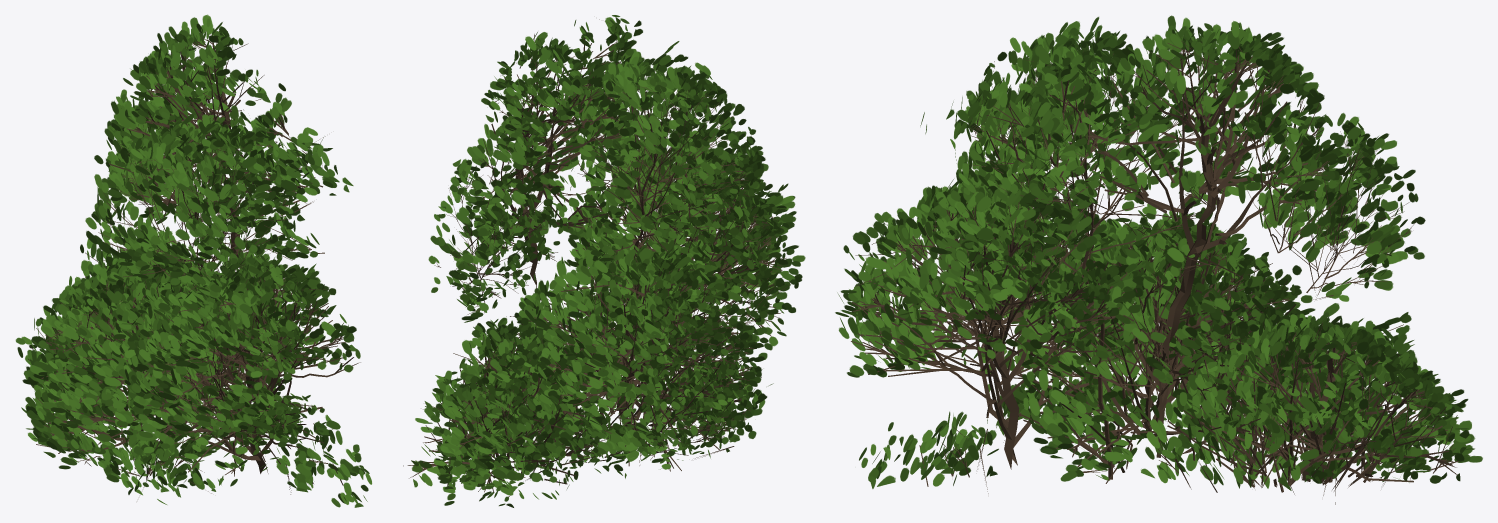
3 views of the same model, side by side, from view 1: azimuth 30°, elevation 25°; view 2: azimuth 150°, elevation 25°; view 3: azimuth 270°, elevation 25° (orthographic). The views are drawn at different scales.
Parts seen in each view (by area): view 1: oak 01.001_trunk_Mat.001_0.420; view 2: oak 01.001_trunk_Mat.001_0.420; view 3: oak 01.001_trunk_Mat.001_0.420.
Part boxes in pixels (x1,y1,x2,y2): oak 01.001_trunk_Mat.001_0.420: (15,14,372,507); oak 01.001_trunk_Mat.001_0.420: (403,15,805,507); oak 01.001_trunk_Mat.001_0.420: (835,15,1482,504).
Bounding box in the file's own units: 2.42 × 3.94 × 4.72.
2 materials, 1 textured.
